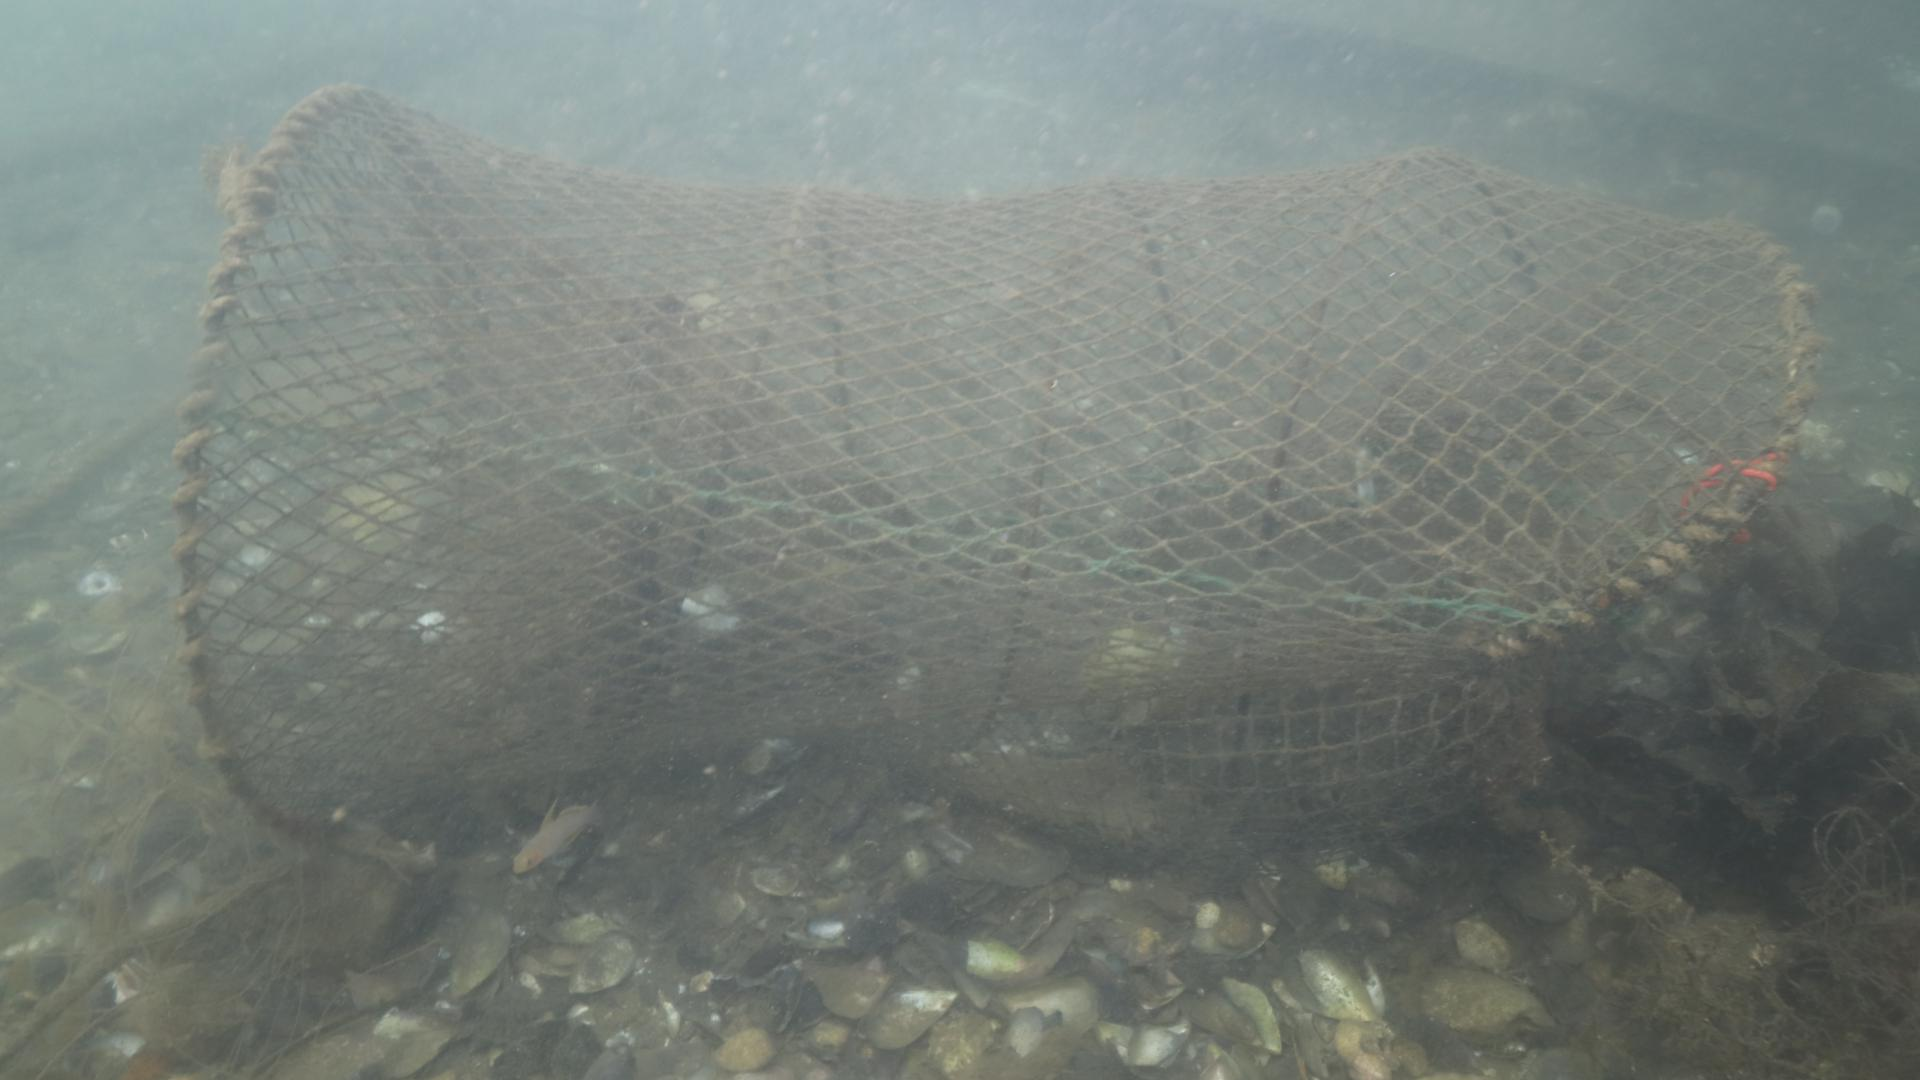spring fish trap: (175, 76, 1816, 884)
